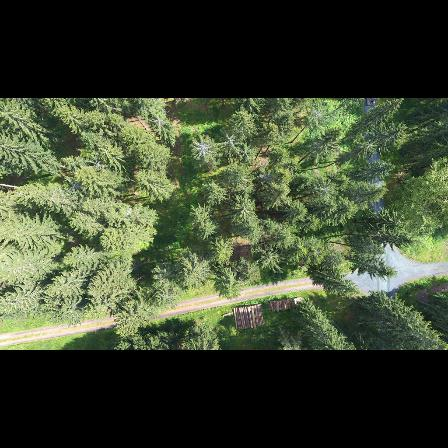Sick: (188, 136, 217, 165), (217, 130, 246, 156)
